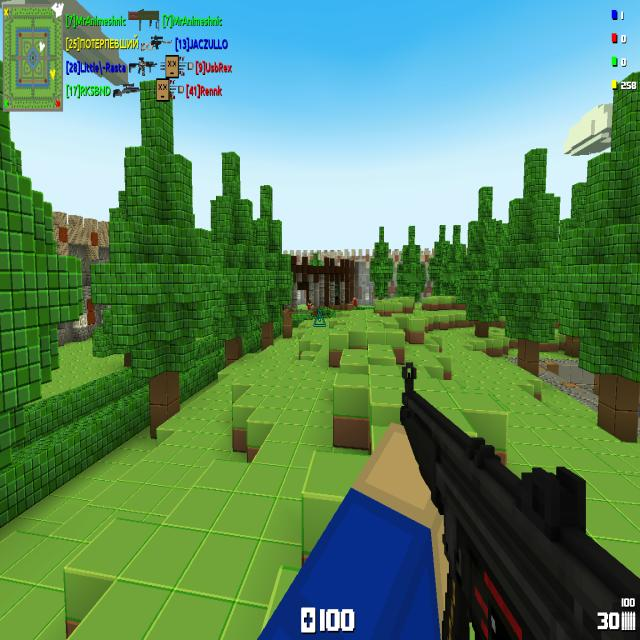enemy: (334, 284, 338, 300), (308, 300, 314, 310), (352, 296, 357, 307), (310, 311, 318, 317)
